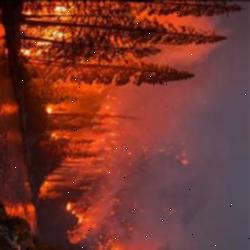fire: (16, 0, 80, 68)
